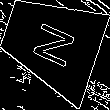N_W: (25, 15, 77, 71)
